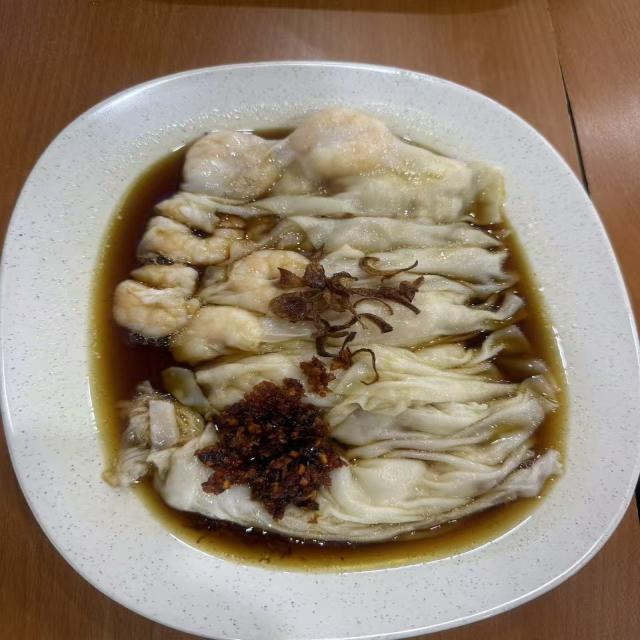Chee Cheong Fun: (84, 79, 599, 584)
